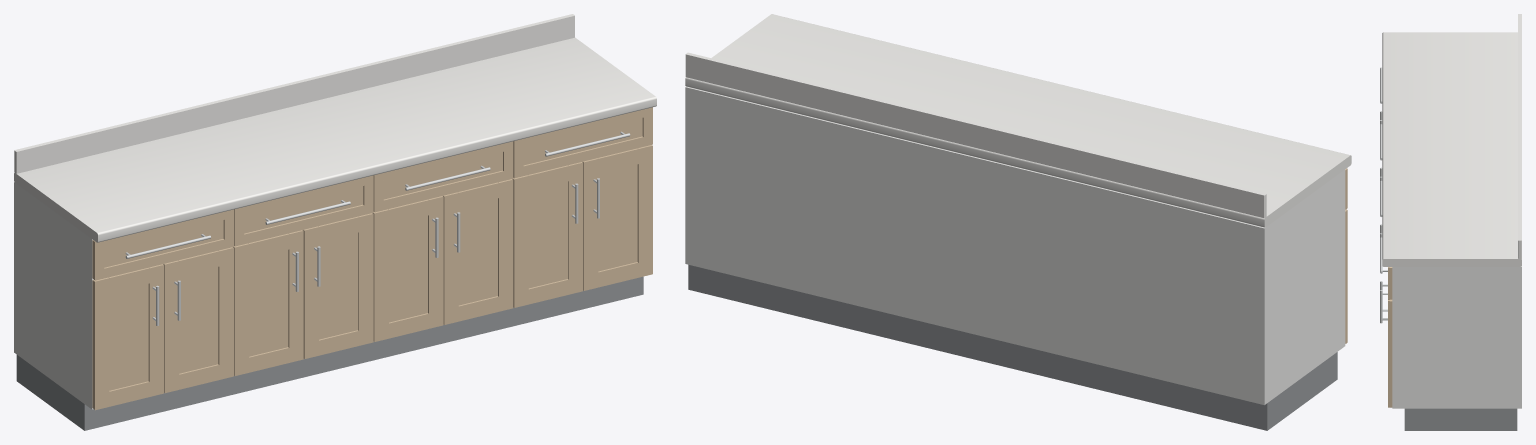
3 views of the same model, side by side, from view 1: azimuth 30°, elevation 25°; view 2: azimuth 150°, elevation 25°; view 3: azimuth 270°, elevation 25° (orthographic). The views are drawn at different scales.
Parts seen in each view (by area): view 1: Tủ bếp dưới Dài=2400; Sâu=580; view 2: Tủ bếp dưới Dài=2400; Sâu=580; view 3: Tủ bếp dưới Dài=2400; Sâu=580.
Boxes of the visible parts, box(x1,y1,x2,y2) form: Tủ bếp dưới Dài=2400; Sâu=580: box(14, 14, 656, 430); Tủ bếp dưới Dài=2400; Sâu=580: box(685, 14, 1351, 430); Tủ bếp dưới Dài=2400; Sâu=580: box(1380, 14, 1521, 430).
Size of the model in its own units: 2.4 by 0.94 by 0.635.
